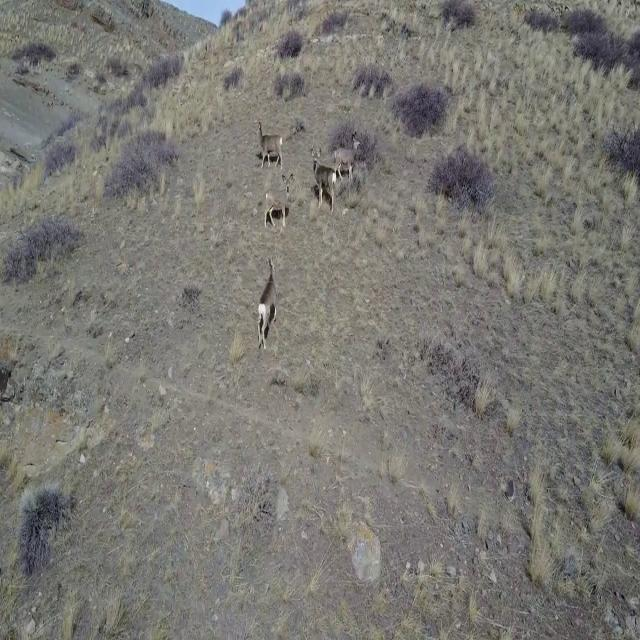Deer: (253, 252, 282, 351), (263, 173, 295, 233), (311, 144, 337, 212), (255, 116, 285, 170), (336, 133, 362, 186)
